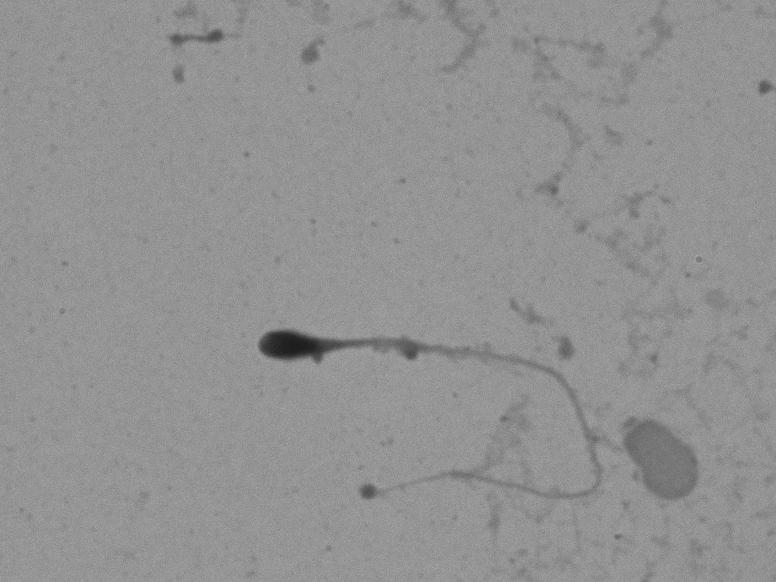Abnormal: (193, 301, 623, 529)
